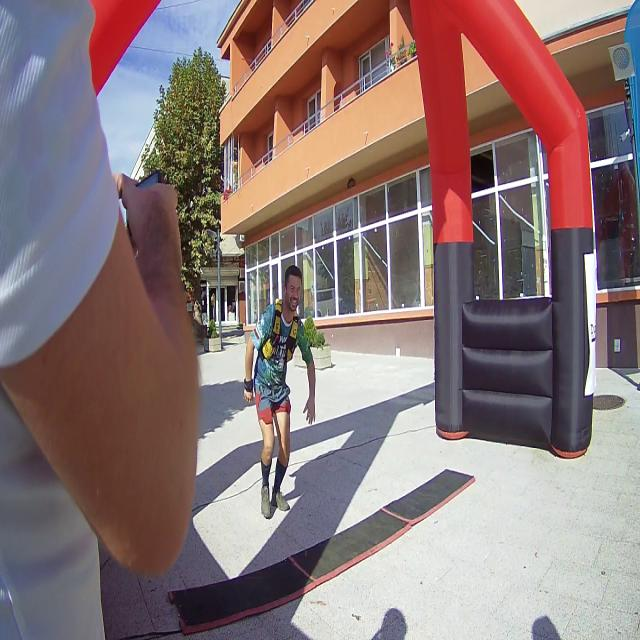runner: (228, 256, 324, 540)
